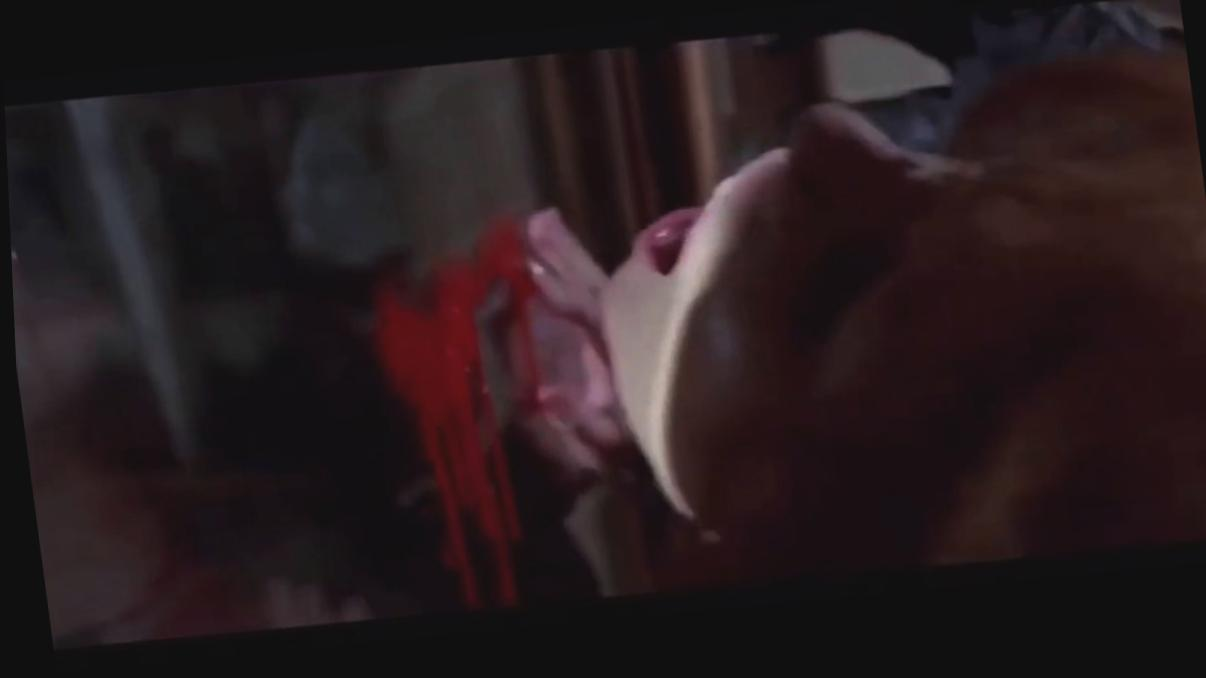Fire: (370, 216, 545, 610)
